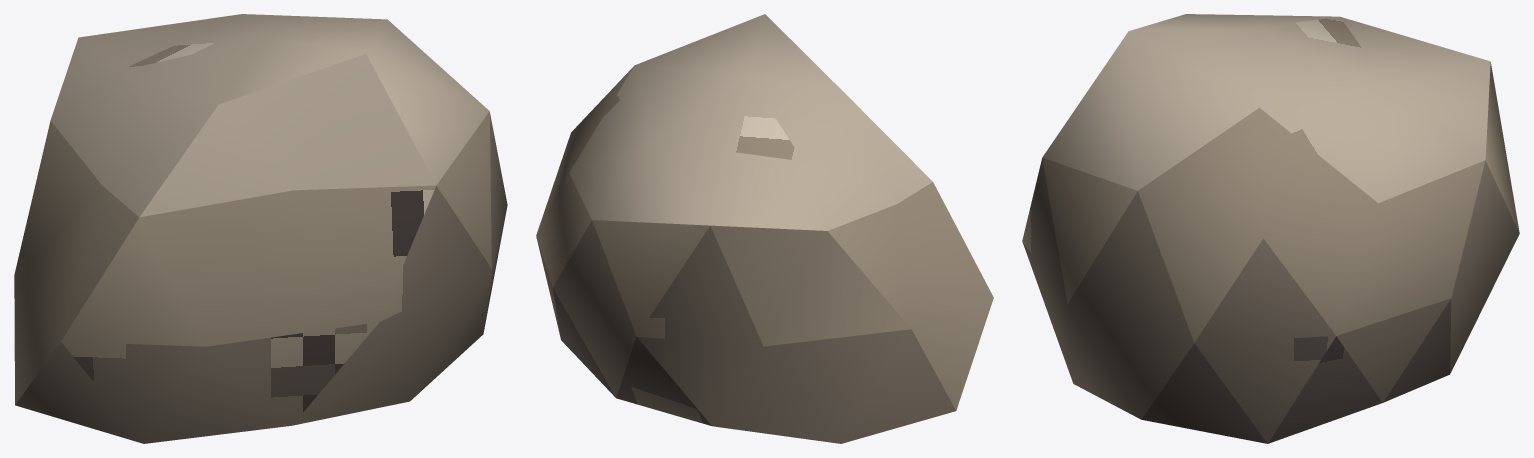
File: rock_small_a.glb
The picture shows the model from 3 angles, left to right: view 1: azimuth 30°, elevation 25°; view 2: azimuth 150°, elevation 25°; view 3: azimuth 270°, elevation 25°; orthographic projection. The views are drawn at different scales.
Parts seen in each view (by area): view 1: rock_small_a; view 2: rock_small_a; view 3: rock_small_a.
Part boxes in pixels (left/top/right/bottom): rock_small_a: left=14, top=14, right=507, bottom=443; rock_small_a: left=536, top=14, right=993, bottom=443; rock_small_a: left=1022, top=14, right=1519, bottom=443.
Bounding box in the file's own units: 0.5087 × 0.36 × 0.4633.
1 material, 1 textured.
